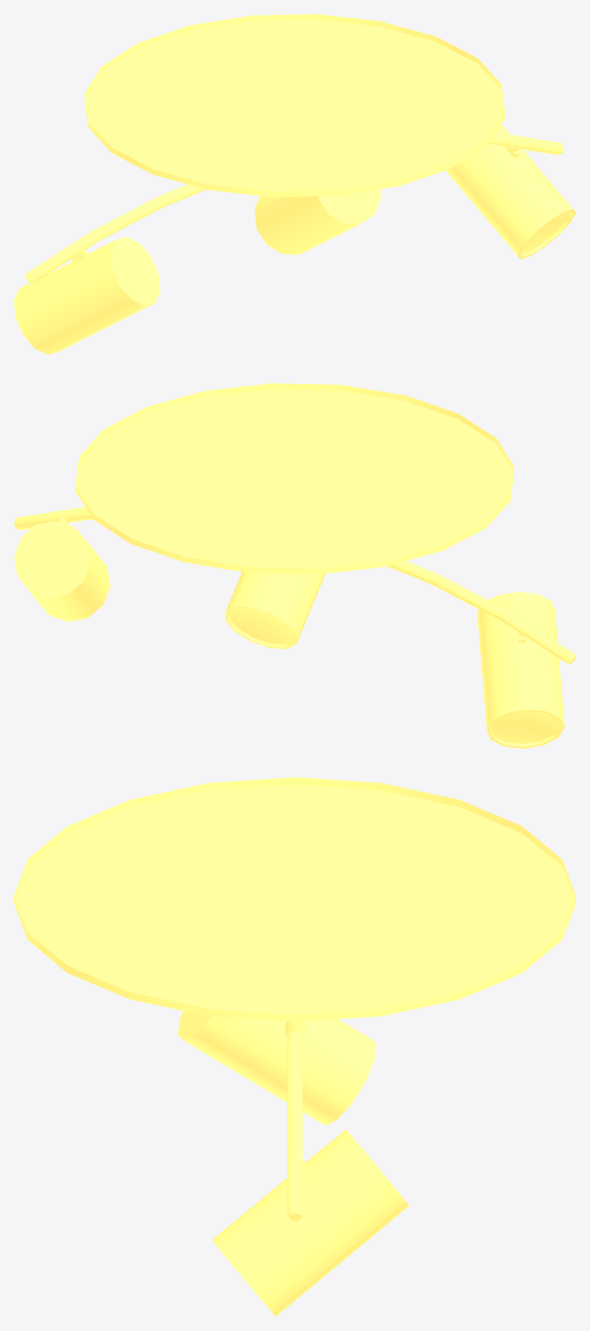
The model's file is SM_Light_Ceiling_03.FBX.
3 renders of one model, top to bottom at view 1: azimuth 30°, elevation 25°; view 2: azimuth 150°, elevation 25°; view 3: azimuth 270°, elevation 25°, orthographic. The views are drawn at different scales.
Visible parts, largest first — view 1: SM_Light_Ceiling_03; view 2: SM_Light_Ceiling_03; view 3: SM_Light_Ceiling_03.
Part boxes in pixels (box(x1,y1,x2,y2)): SM_Light_Ceiling_03: box(14, 14, 575, 354); SM_Light_Ceiling_03: box(14, 383, 575, 748); SM_Light_Ceiling_03: box(14, 777, 575, 1316).
Bounding box in the file's own units: 58.77 × 40.11 × 21.13.
